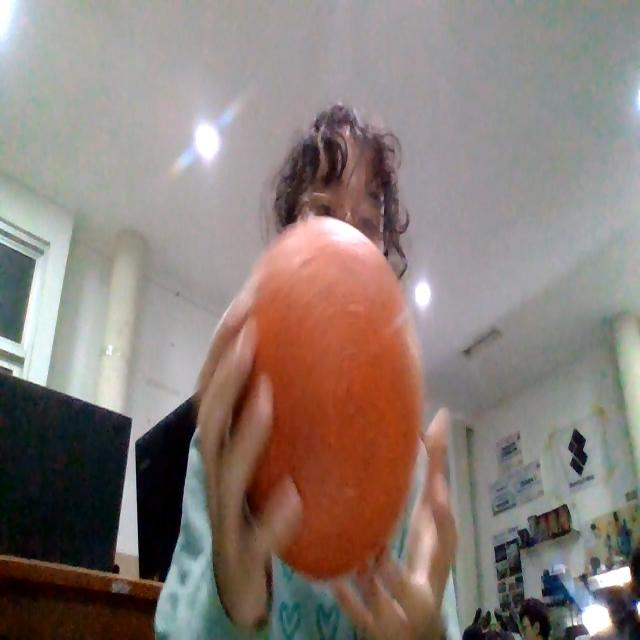ball: (236, 214, 424, 580)
